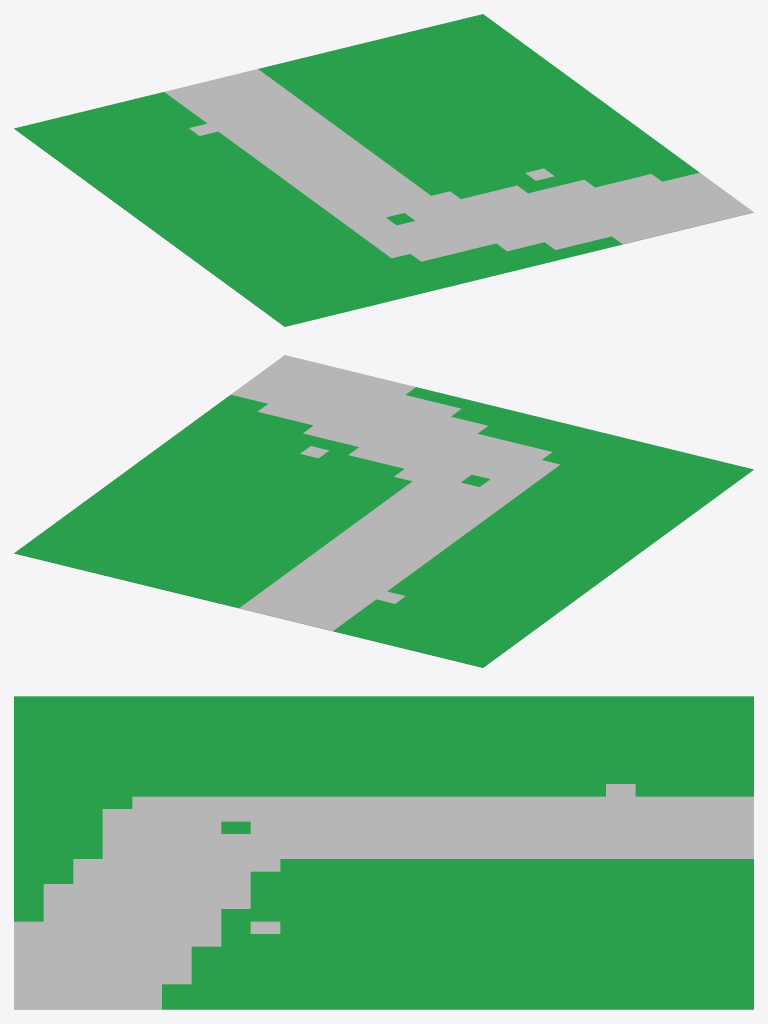
Rendered from NavStageBase.FBX.
3 renders of one model, top to bottom at view 1: azimuth 30°, elevation 25°; view 2: azimuth 150°, elevation 25°; view 3: azimuth 270°, elevation 25°, orthographic. The views are drawn at different scales.
Visible parts, largest first — view 1: Box001; view 2: Box001; view 3: Box001.
Boxes of the visible parts, bbox=[...] form: Box001: bbox=[14, 14, 753, 326]; Box001: bbox=[14, 355, 753, 667]; Box001: bbox=[14, 696, 753, 1009].
Bounding box in the file's own units: 5080 × 5080 × 2.54.
